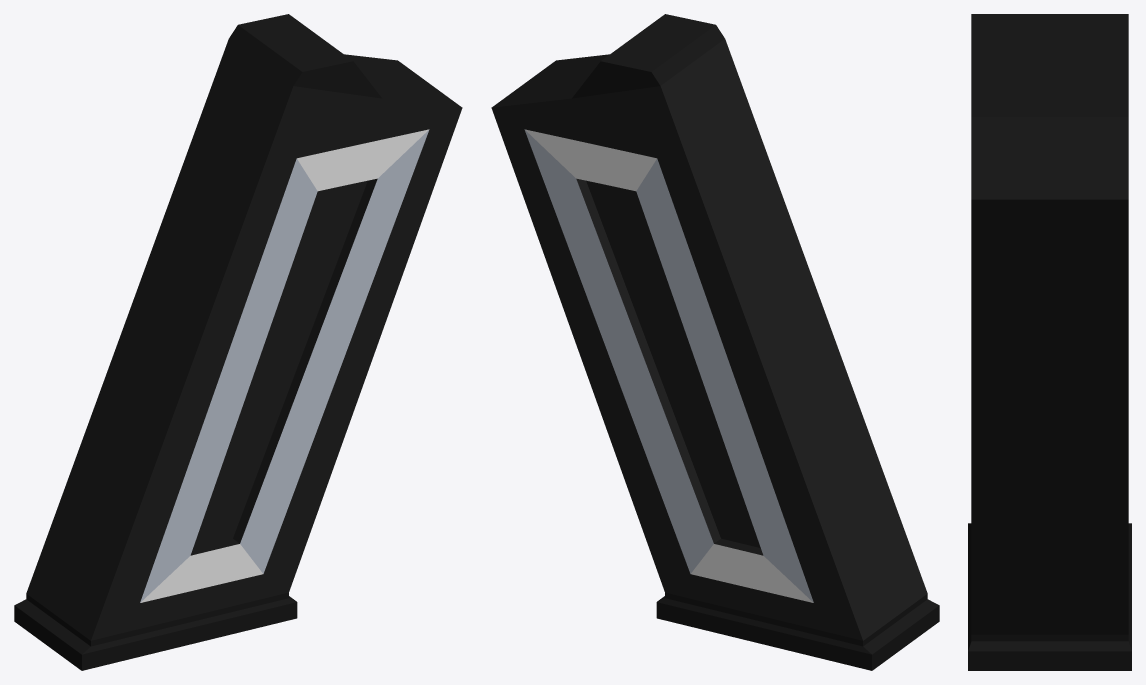
Rendered from clipRegular.glb.
3 views of the same model, side by side, from view 1: azimuth 30°, elevation 25°; view 2: azimuth 150°, elevation 25°; view 3: azimuth 270°, elevation 25° (orthographic). The views are drawn at different scales.
Parts seen in each view (by area): view 1: Clip; view 2: Clip; view 3: Clip.
Part boxes in pixels (left/top/right/bottom): Clip: left=14, top=14, right=462, bottom=670; Clip: left=491, top=14, right=939, bottom=670; Clip: left=968, top=14, right=1131, bottom=670.
Bounding box in the file's own units: 0.1051 × 0.1428 × 0.0321.
Materials: 1 (1 with a texture image).
